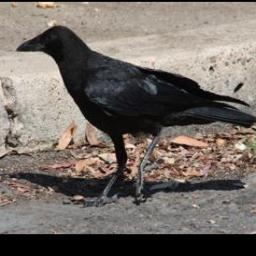Crow: (14, 21, 256, 204)
